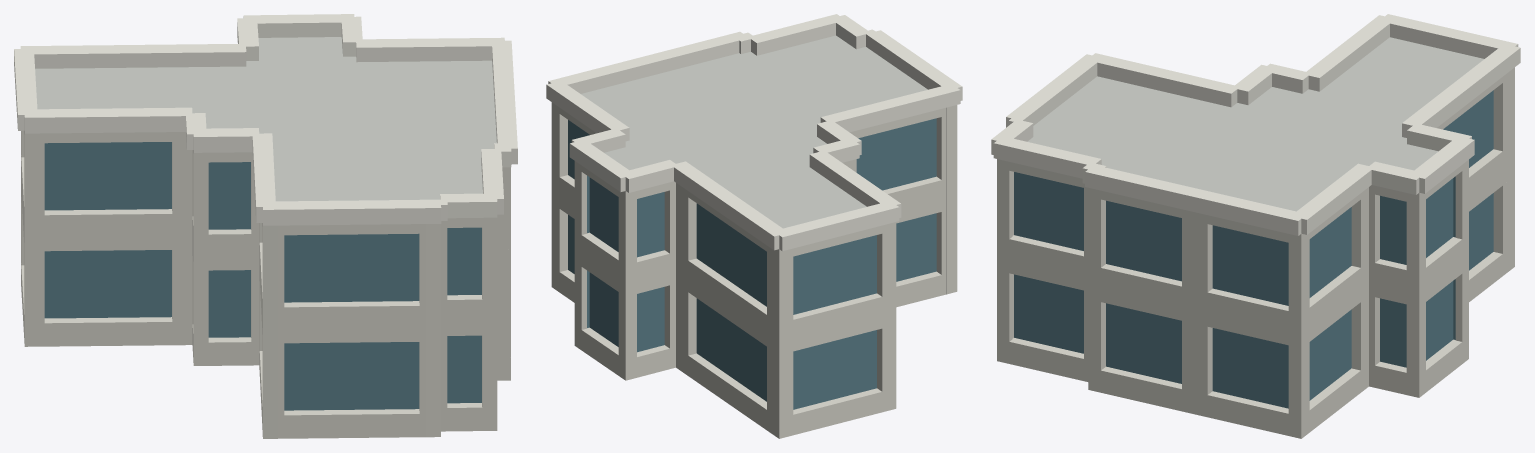
Rendered from sb_1075272613.far.glb.
3 renders of one model, left to right at view 1: azimuth 30°, elevation 25°; view 2: azimuth 150°, elevation 25°; view 3: azimuth 270°, elevation 25°, orthographic. The views are drawn at different scales.
Visible parts, largest first — view 1: wall, glass, roof, trim; view 2: wall, roof, glass, trim; view 3: wall, glass, roof, trim.
Part boxes in pixels (box(x1,y1,x2,y2)): wall: box(21, 130, 510, 438); glass: box(44, 142, 481, 410); roof: box(35, 37, 496, 201); trim: box(14, 14, 517, 225); wall: box(551, 102, 957, 438); roof: box(581, 35, 927, 228); glass: box(568, 118, 936, 409); trim: box(546, 14, 962, 251); wall: box(997, 67, 1514, 438); glass: box(1014, 90, 1493, 408); roof: box(1027, 37, 1484, 211); trim: box(991, 14, 1520, 235).
Size of the model in its own units: 12.98 by 6.44 by 14.03.
